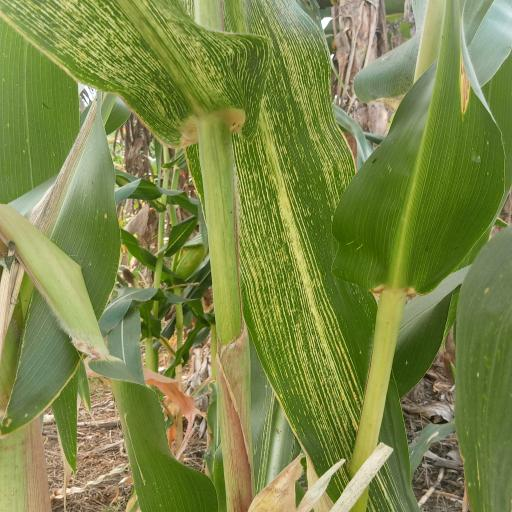Corn_Streak: (0, 0, 435, 512)
